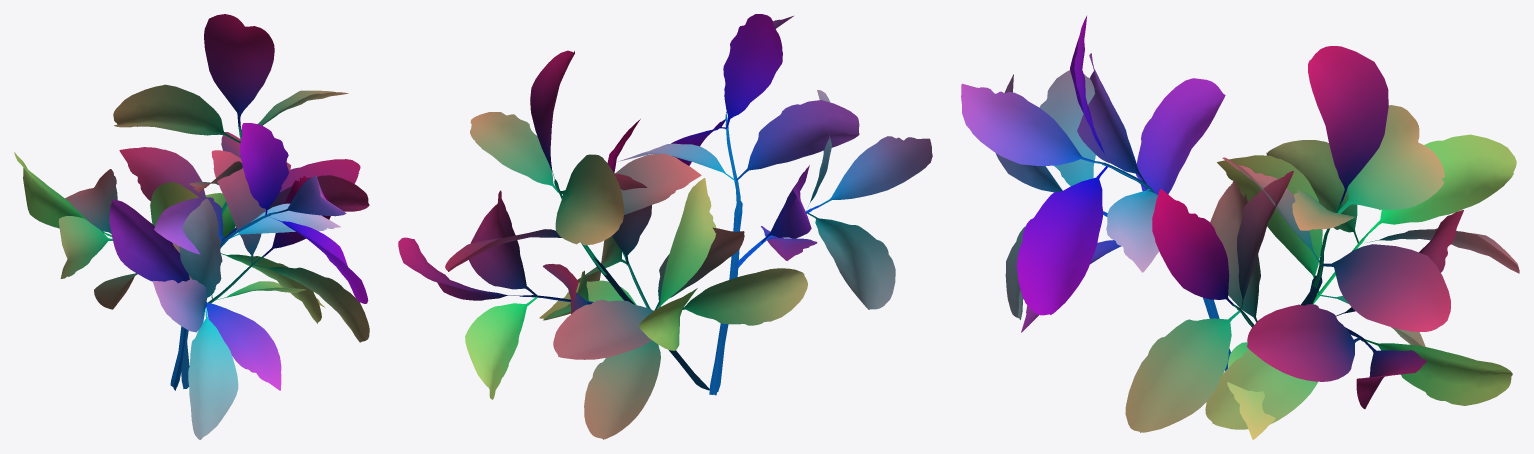
File: European_Spindle_wk1ncbxja_Raw_wk1ncbxja_VarF_LOD0.fbx
3 renders of one model, left to right at view 1: azimuth 30°, elevation 25°; view 2: azimuth 150°, elevation 25°; view 3: azimuth 270°, elevation 25°, orthographic. The views are drawn at different scales.
Parts seen in each view (by area): view 1: _apgt_VarF_High; view 2: _apgt_VarF_High; view 3: _apgt_VarF_High.
Boxes of the visible parts, x1,y1,x2,y2 form: _apgt_VarF_High: [14, 14, 369, 439]; _apgt_VarF_High: [398, 14, 932, 439]; _apgt_VarF_High: [961, 16, 1519, 439].
Size of the model in its own units: 26.44 by 23.62 by 29.36.
